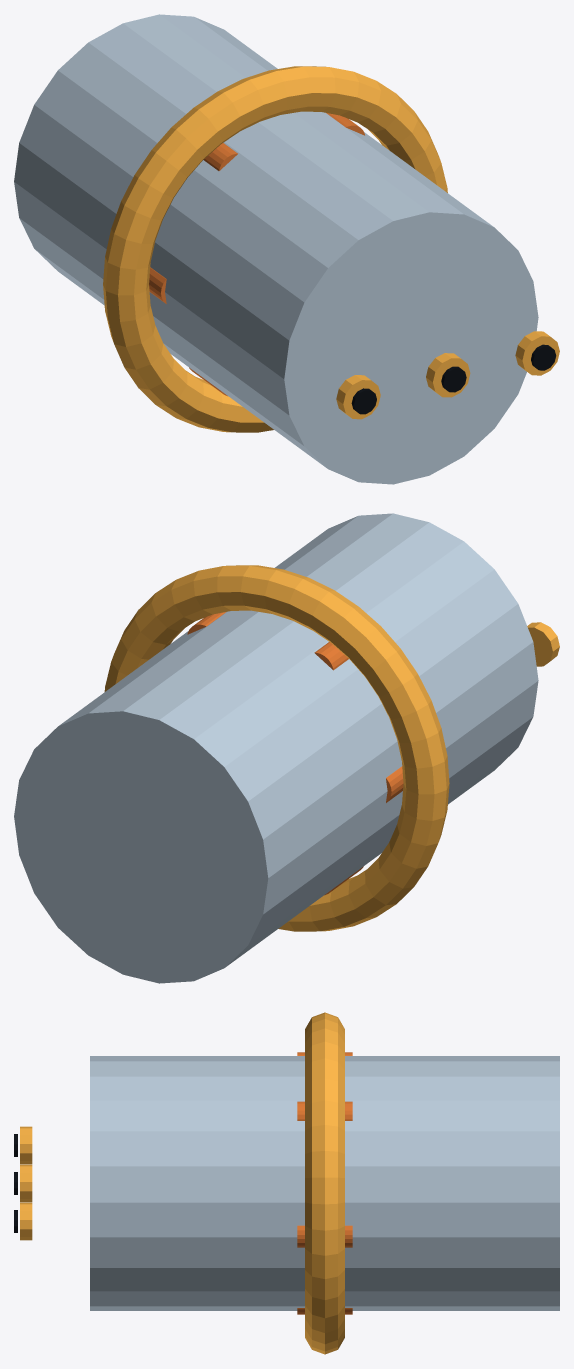
Rendered from 22_L90_Aurora1StarboardArrayHinge.fbx.
3 views of the same model, one above another, from view 1: azimuth 30°, elevation 25°; view 2: azimuth 150°, elevation 25°; view 3: azimuth 270°, elevation 25° (orthographic). The views are drawn at different scales.
Visible parts, largest first — view 1: L90_Aurora1StarboardArrayHinge, L90_Aurora1StarboardArrayHinge_Part_0001, L90_Aurora1StarboardArrayHinge_Part_0002, L90_Aurora1StarboardArrayHinge_Part_0005, L90_Aurora1StarboardArrayHinge_Part_0007, L90_Aurora1StarboardArrayHinge_Part_0003; view 2: L90_Aurora1StarboardArrayHinge, L90_Aurora1StarboardArrayHinge_Part_0001, L90_Aurora1StarboardArrayHinge_Part_0002, L90_Aurora1StarboardArrayHinge_Part_0003; view 3: L90_Aurora1StarboardArrayHinge, L90_Aurora1StarboardArrayHinge_Part_0001, L90_Aurora1StarboardArrayHinge_Part_0002, L90_Aurora1StarboardArrayHinge_Part_0003, L90_Aurora1StarboardArrayHinge_Part_0005, L90_Aurora1StarboardArrayHinge_Part_0007.
Boxes of the visible parts, x1=… form: L90_Aurora1StarboardArrayHinge: x1=14, y1=14, x2=538, y2=484; L90_Aurora1StarboardArrayHinge_Part_0001: x1=103, y1=66, x2=447, y2=432; L90_Aurora1StarboardArrayHinge_Part_0002: x1=149, y1=113, x2=364, y2=396; L90_Aurora1StarboardArrayHinge_Part_0005: x1=426, y1=353, x2=470, y2=397; L90_Aurora1StarboardArrayHinge_Part_0007: x1=515, y1=331, x2=559, y2=375; L90_Aurora1StarboardArrayHinge_Part_0003: x1=336, y1=375, x2=380, y2=419; L90_Aurora1StarboardArrayHinge: x1=14, y1=513, x2=538, y2=983; L90_Aurora1StarboardArrayHinge_Part_0001: x1=104, y1=565, x2=449, y2=931; L90_Aurora1StarboardArrayHinge_Part_0002: x1=187, y1=612, x2=403, y2=895; L90_Aurora1StarboardArrayHinge_Part_0003: x1=527, y1=622, x2=559, y2=666; L90_Aurora1StarboardArrayHinge: x1=90, y1=1056, x2=559, y2=1310; L90_Aurora1StarboardArrayHinge_Part_0001: x1=305, y1=1012, x2=344, y2=1354; L90_Aurora1StarboardArrayHinge_Part_0002: x1=297, y1=1052, x2=352, y2=1314; L90_Aurora1StarboardArrayHinge_Part_0003: x1=20, y1=1126, x2=32, y2=1164; L90_Aurora1StarboardArrayHinge_Part_0005: x1=20, y1=1164, x2=32, y2=1202; L90_Aurora1StarboardArrayHinge_Part_0007: x1=20, y1=1202, x2=32, y2=1240.
Bounding box in the file's own units: 118 × 118 × 188.
